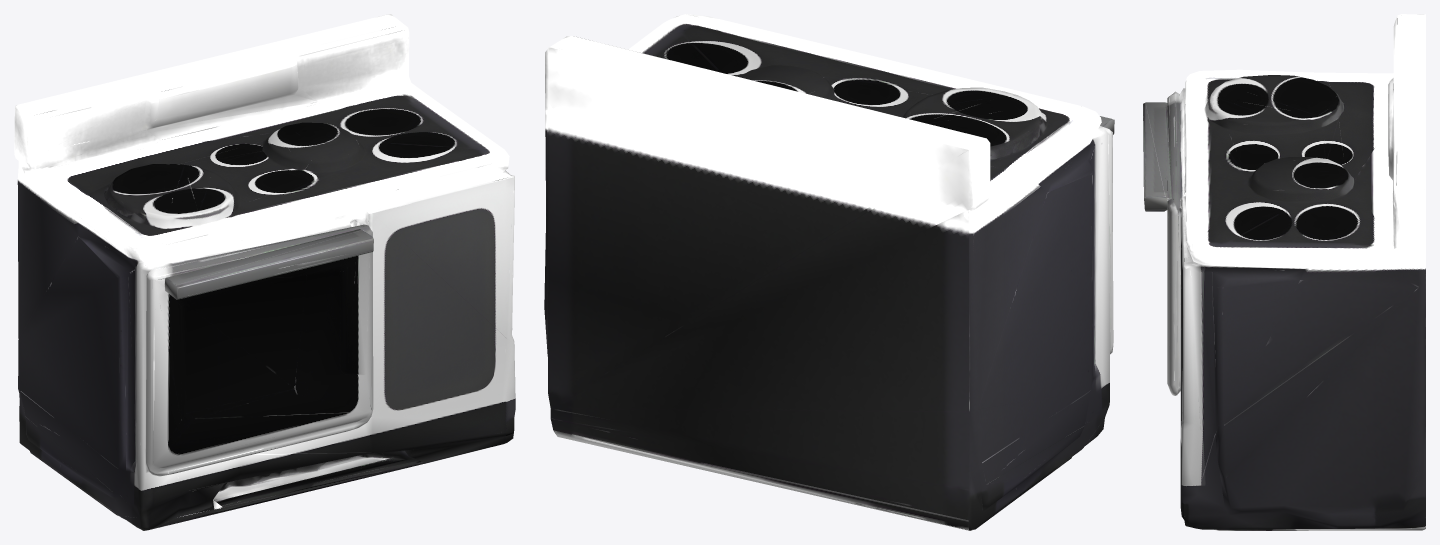
Rendered from Meshy_AI_A_stylized_low_poly_k_0430223408_texture.fbx.
The picture shows the model from 3 angles, left to right: view 1: azimuth 30°, elevation 25°; view 2: azimuth 150°, elevation 25°; view 3: azimuth 270°, elevation 25°; orthographic projection. The views are drawn at different scales.
Parts seen in each view (by area): view 1: Mesh_0; view 2: Mesh_0; view 3: Mesh_0.
Part boxes in pixels (box(x1,y1,x2,y2)): Mesh_0: box(14, 14, 515, 530); Mesh_0: box(544, 14, 1114, 530); Mesh_0: box(1143, 14, 1425, 530).
Size of the model in its own units: 191 by 163 by 123.
1 material, 1 textured.
